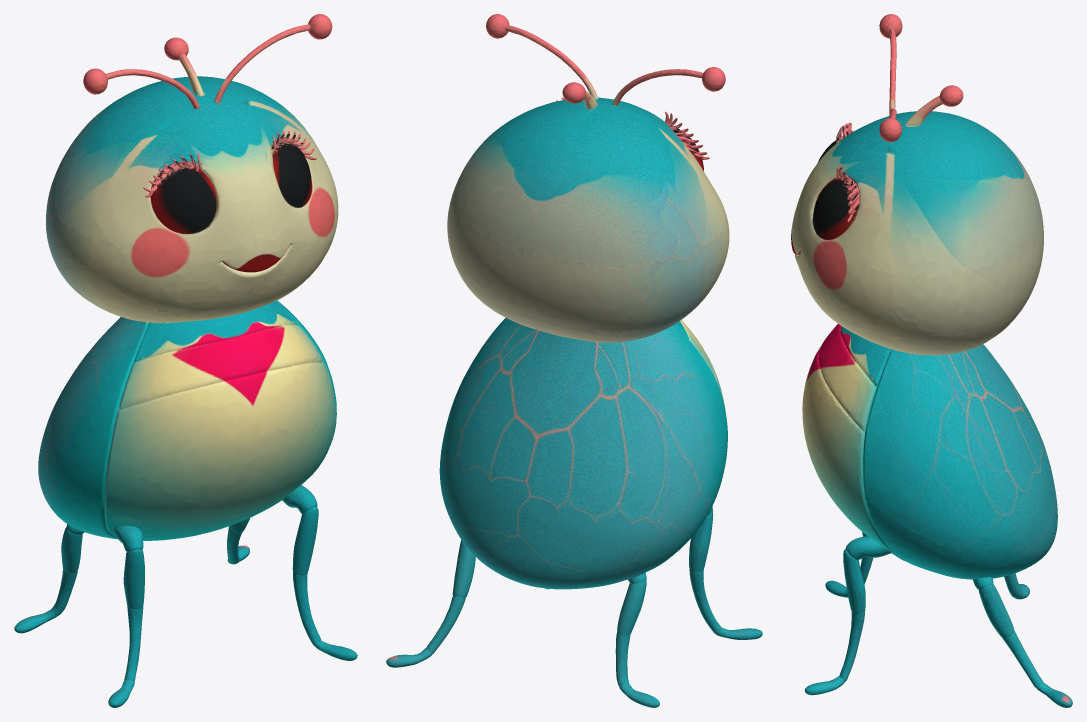
The model's file is meshy-1795544751466.glb.
3 renders of one model, left to right at view 1: azimuth 30°, elevation 25°; view 2: azimuth 150°, elevation 25°; view 3: azimuth 270°, elevation 25°, orthographic. The views are drawn at different scales.
Bounding box in the file's own units: 0.8638 × 1.9 × 0.8375.
1 material, 1 textured.
